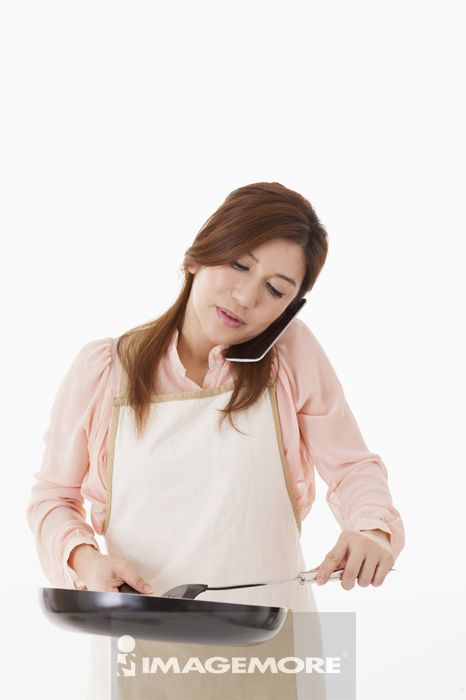phone: (226, 301, 305, 362)
talk: (205, 245, 309, 375)
